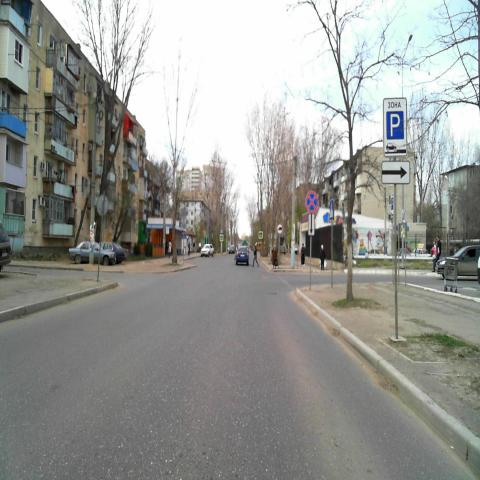8_2_3: (308, 214, 314, 235)
8_3_1: (382, 160, 410, 185)
